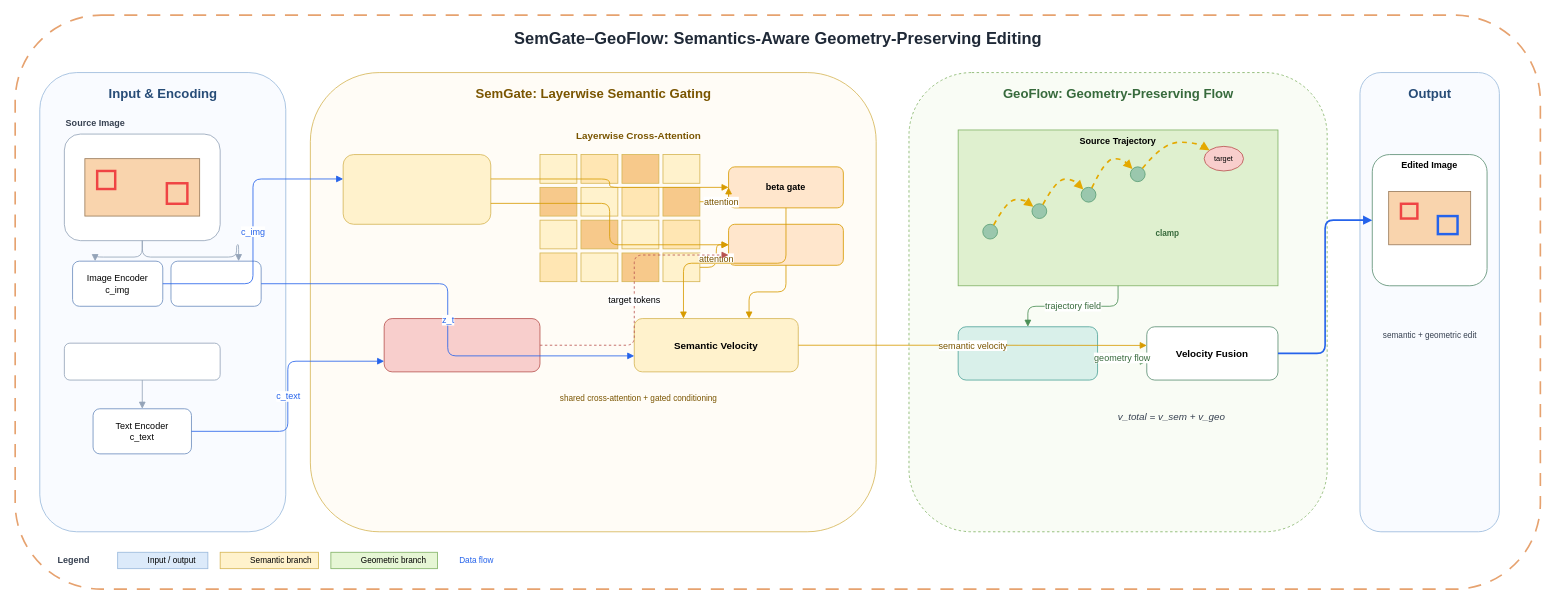
Some shapes in this 1555 by 604 pixel diagram are drawn without their labels. Here are the shapes that lost their labels. From the top down, the centre of each, then its label:
point 416,189: Timestep & Layer Scheduler beta(t), gamma(t)
point 785,244: gamma gate
point 215,283: Noise Latent z_t
point 142,361: Text Instruction
point 461,345: Target Phrase Locator target tokens
point 1027,353: Geometric Field
